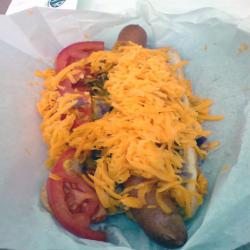hotdog: (100, 34, 209, 245)
